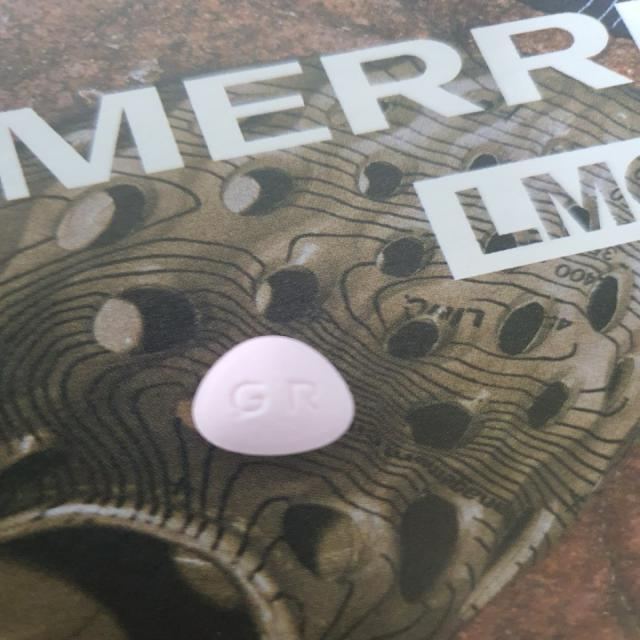pill: (176, 316, 367, 474)
